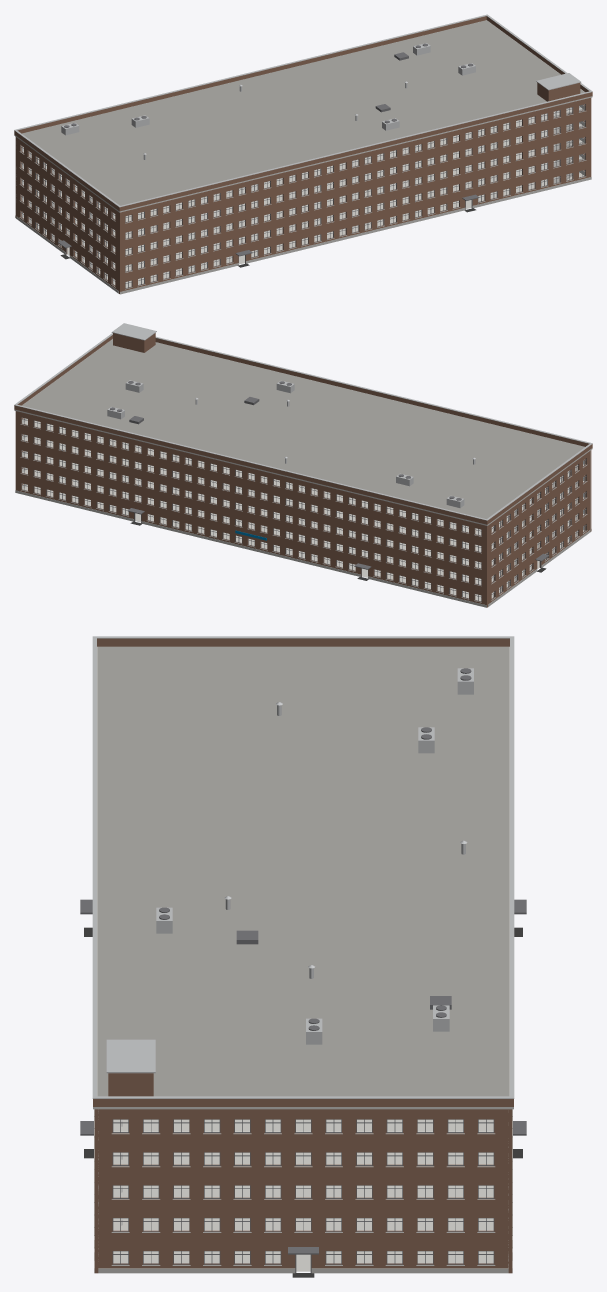
Rendered from SM_Bygg_Elektrobygget.fbx.
3 renders of one model, top to bottom at view 1: azimuth 30°, elevation 25°; view 2: azimuth 150°, elevation 25°; view 3: azimuth 270°, elevation 25°, orthographic. The views are drawn at different scales.
Visible parts, largest first — view 1: SM_Bygg_Elektrobygget; view 2: SM_Bygg_Elektrobygget; view 3: SM_Bygg_Elektrobygget.
Part boxes in pixels (<box>): SM_Bygg_Elektrobygget: <box>14,14,592,294</box>; SM_Bygg_Elektrobygget: <box>14,323,592,607</box>; SM_Bygg_Elektrobygget: <box>80,636,526,1277</box>.
Size of the model in its own units: 49.2 by 123 by 23.91.
